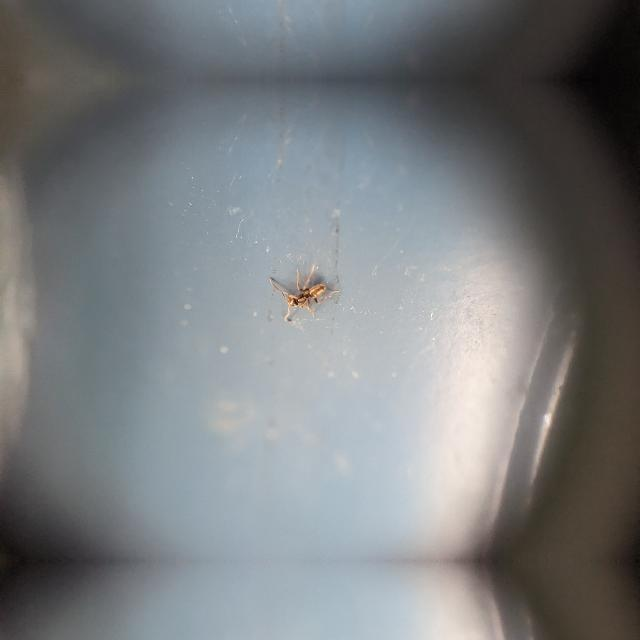Tapinoma: (268, 268, 342, 322)
